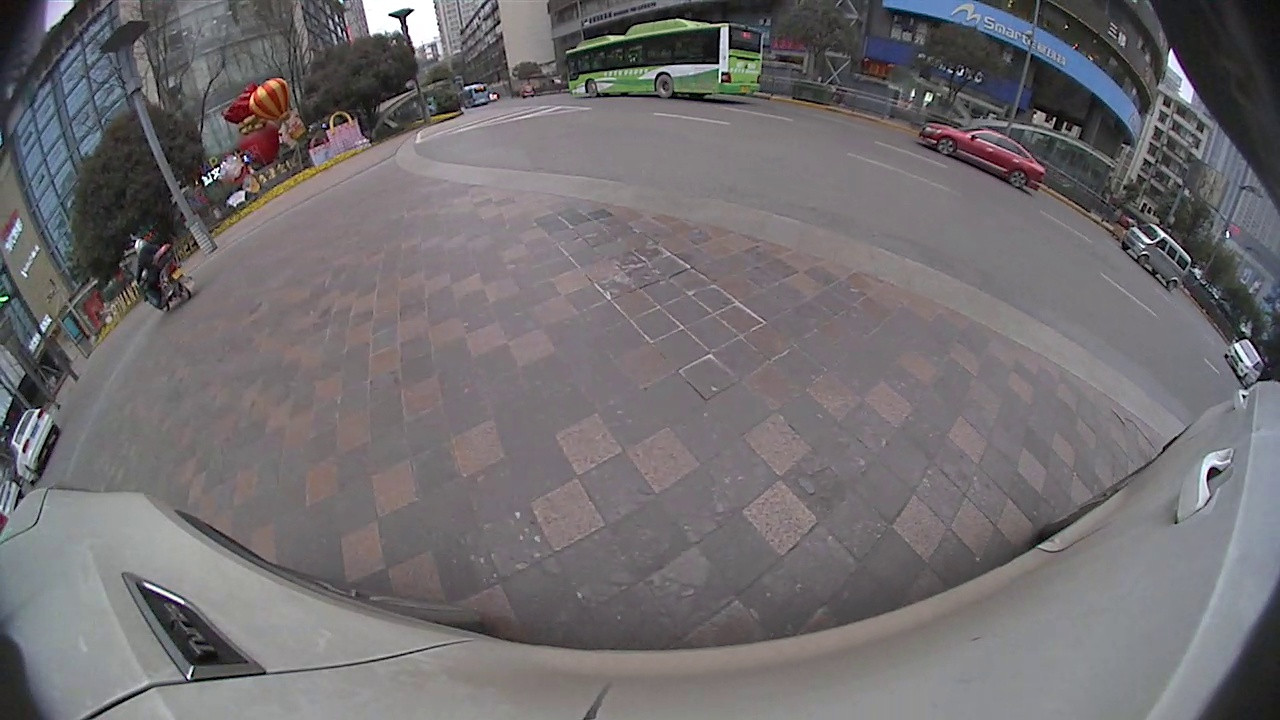bus: (563, 19, 766, 100)
car: (921, 124, 1047, 192), (1118, 222, 1189, 290), (11, 409, 60, 482), (1227, 341, 1264, 386)
front: (935, 136, 960, 157), (584, 78, 600, 99), (1137, 252, 1150, 269)
rear: (653, 74, 676, 102), (1008, 168, 1030, 190), (1165, 277, 1178, 295)
rider: (131, 237, 200, 310)
